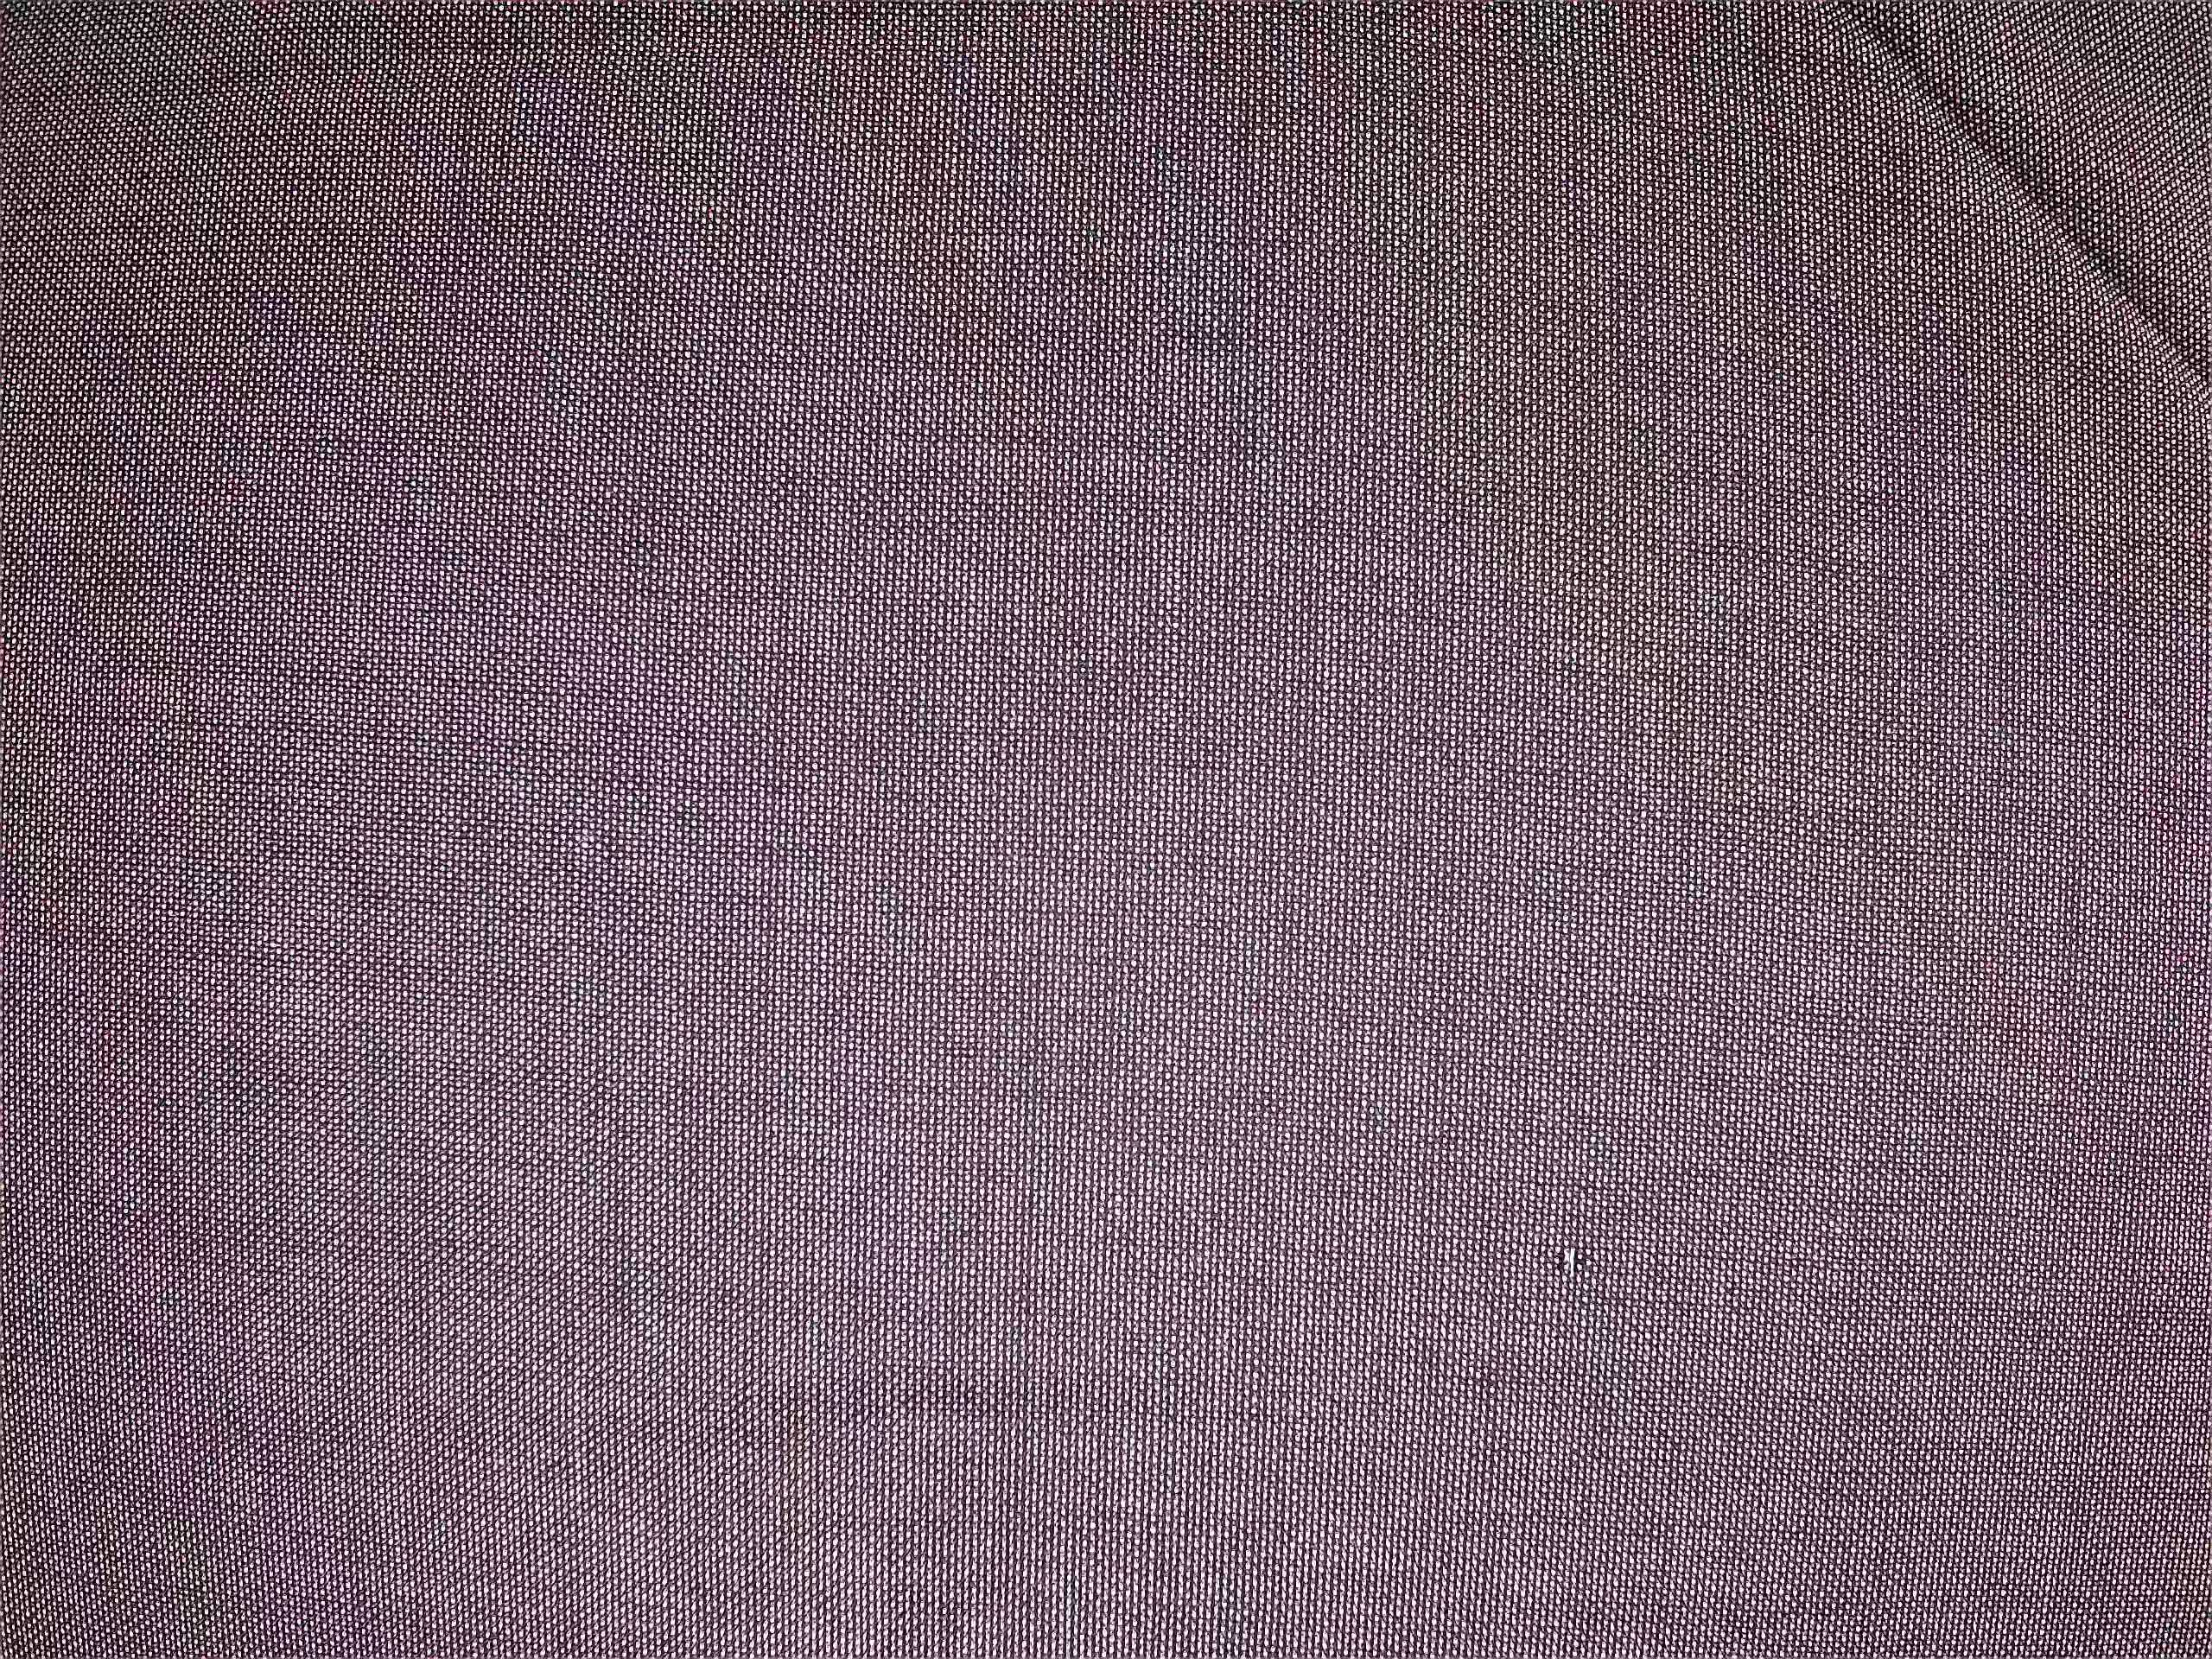rubbing-hole: (1548, 1234, 1597, 1286)
